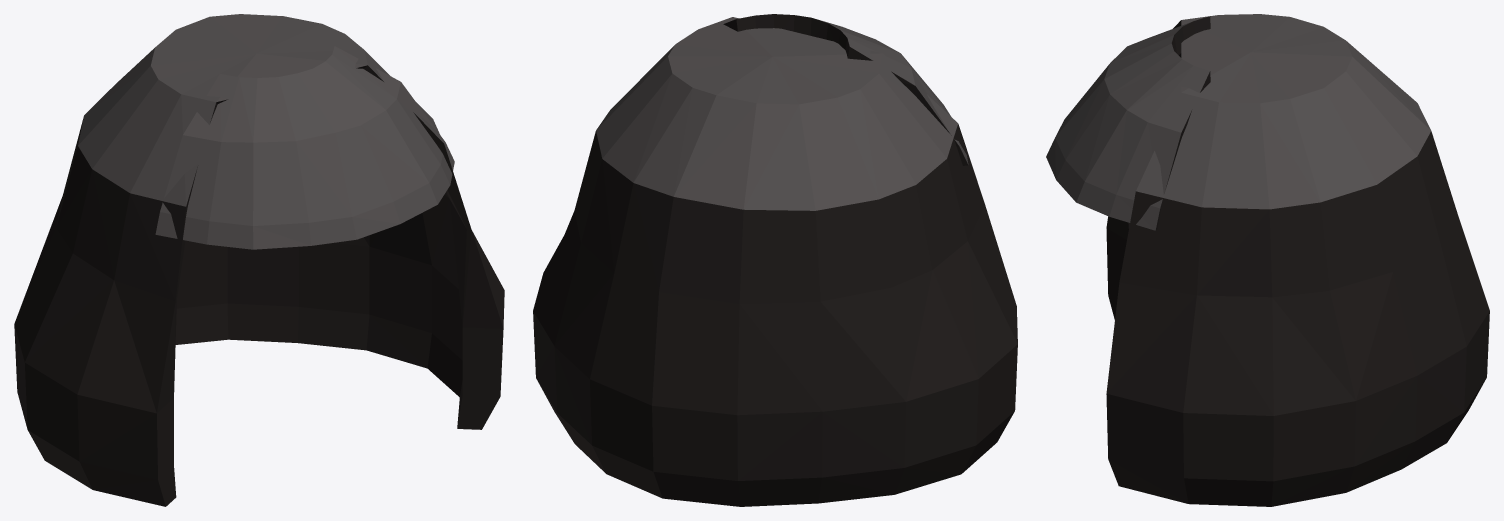
Rendered from hair_bob_bangs_01.glb.
3 views of the same model, side by side, from view 1: azimuth 30°, elevation 25°; view 2: azimuth 150°, elevation 25°; view 3: azimuth 270°, elevation 25° (orthographic).
Visible parts, largest first — view 1: hair_bob_bangs_01; view 2: hair_bob_bangs_01; view 3: hair_bob_bangs_01.
Boxes of the visible parts, bbox=[...] form: hair_bob_bangs_01: bbox=[14, 14, 504, 506]; hair_bob_bangs_01: bbox=[533, 14, 1017, 506]; hair_bob_bangs_01: bbox=[1046, 14, 1489, 506].
Size of the model in its own units: 0.3678 by 0.2996 by 0.3276.
Materials: 1 (1 with a texture image).
